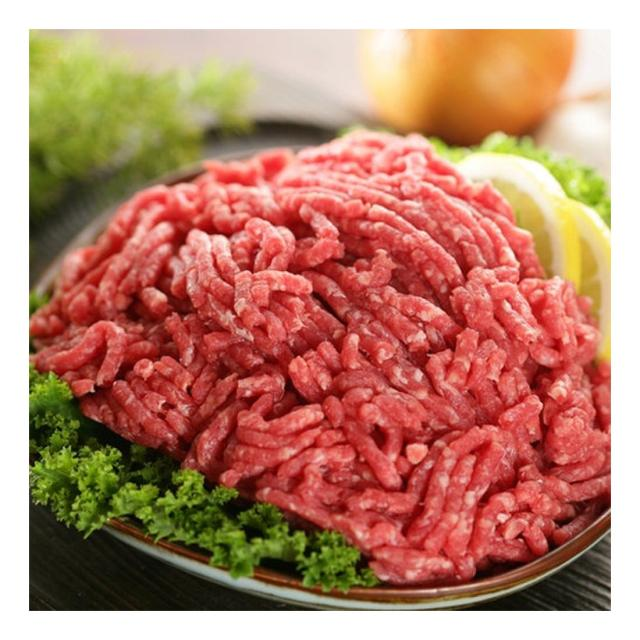beef: (210, 220, 462, 441)
